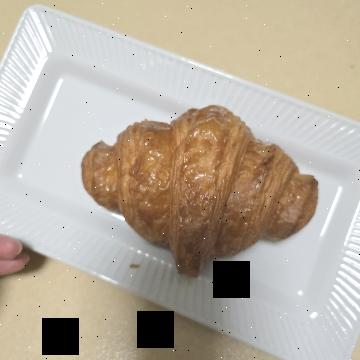croissant: (98, 38, 299, 298)
